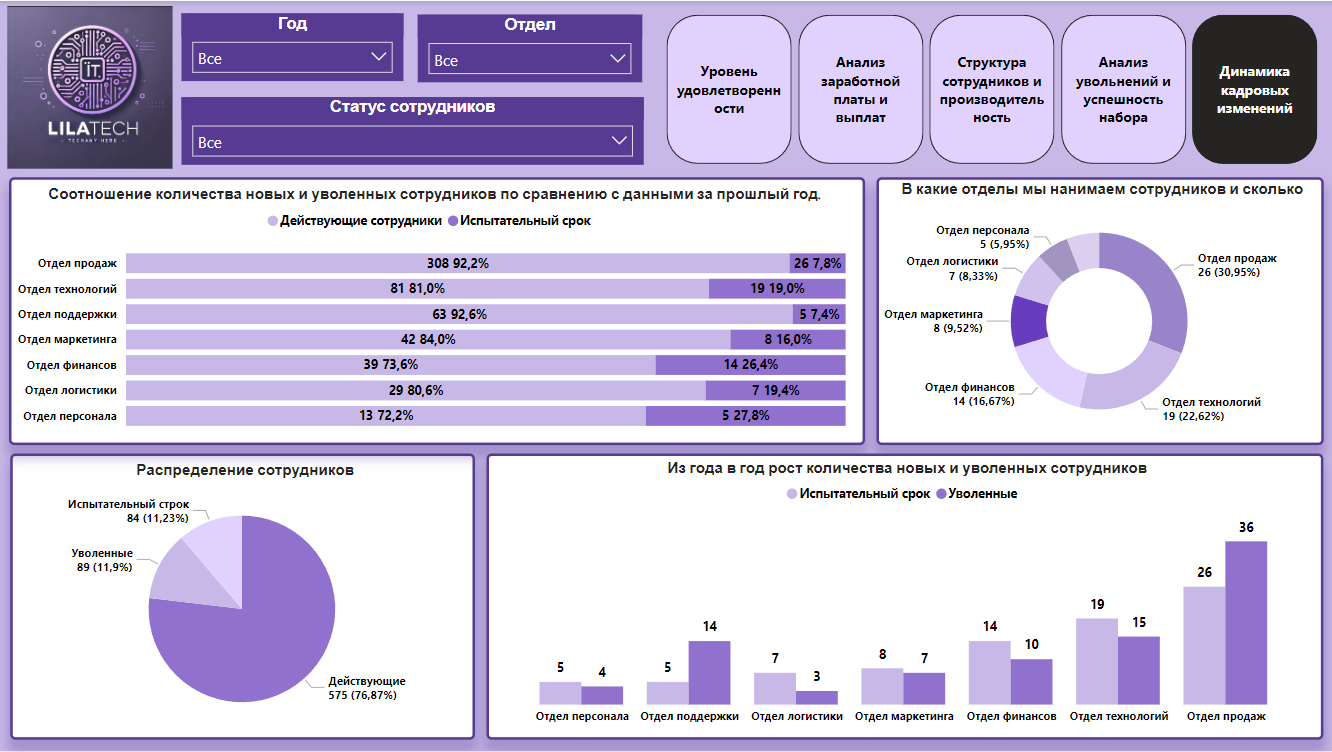

The dashboard page shown, as its layout file describes it:
{"tool":"powerbi","page":{"name":"Динамика кадровых изменений","canvas":[1280,720],"ordinal":4},"visuals":[{"type":"pieChart","title":"Распределение сотрудников","fields":{"Category":["Headcount.details"],"Y":["Sum(Headcount.Quantity of pers)"]},"box":[10.8,433.9,445.8,274.5],"z":0},{"type":"donutChart","title":"В какие отделы мы нанимаем сотрудников и сколько","fields":{"Category":["Headcount.Dept"],"Y":["Headcount.FilterHeadDetails"]},"box":[841.1,168.8,428.5,256.8],"z":1000},{"type":"hundredPercentStackedBarChart","title":"Соотношение количества новых и уволенных сотрудников по сравнению с данными за прошлый год.","fields":{"Category":["Headcount.Dept"],"Y":["Headcount.Действующие сотрудники","Headcount.Испытательный срок"]},"box":[10.1,168.8,820.9,256.8],"z":2000},{"type":"clusteredColumnChart","title":"Из года в год рост количества новых и уволенных сотрудников","fields":{"Category":["Headcount.Dept"],"Y":["Headcount.Испытательный срок","Headcount.Уволенные"]},"box":[467.5,434.3,802.2,274.1],"z":3000},{"type":"image","box":[0,0,175,166],"z":4000},{"type":"pageNavigator","box":[640,13.8,626.2,143.8],"z":5000},{"type":"slicer","title":"Год","fields":{"Values":["Headcount.Year"]},"box":[175,12.5,212.5,65],"z":6000},{"type":"slicer","title":"Статус сотрудников","fields":{"Values":["Headcount.details"]},"box":[175,92,443,65],"z":7000},{"type":"slicer","title":"Отдел","fields":{"Values":["Headcount.Dept"]},"box":[401,13,215,65],"z":8000}]}

Visuals, with their boxes in screenshot pixels (x1, y1, x2, y2), scaled from the page's 1280x720 canvas onto the 1332x752 screenshot:
"Распределение сотрудников" pieChart: l=11, t=453, r=475, b=740
"В какие отделы мы нанимаем сотрудников и сколько" donutChart: l=875, t=176, r=1321, b=445
"Соотношение количества новых и уволенных сотрудников по сравнению с данными за прошлый год." hundredPercentStackedBarChart: l=11, t=176, r=865, b=445
"Из года в год рост количества новых и уволенных сотрудников" clusteredColumnChart: l=486, t=454, r=1321, b=740
image: l=0, t=0, r=182, b=173
pageNavigator: l=666, t=14, r=1318, b=165
"Год" slicer: l=182, t=13, r=403, b=81
"Статус сотрудников" slicer: l=182, t=96, r=643, b=164
"Отдел" slicer: l=417, t=14, r=641, b=81
